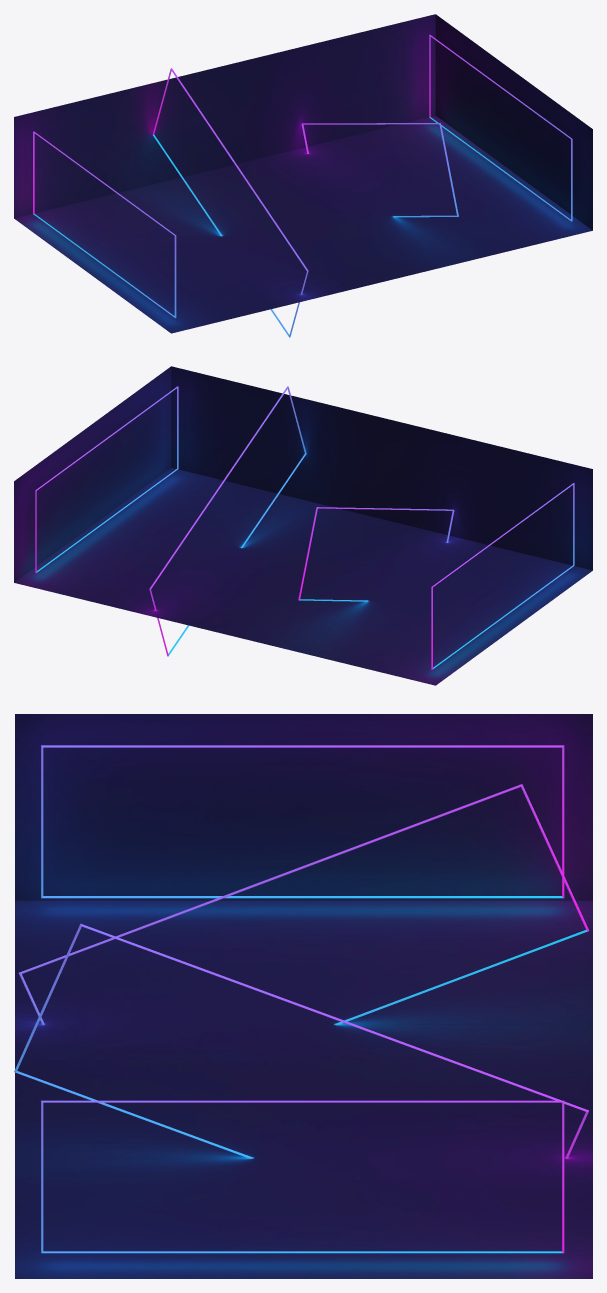
Rendered from neon_lobby_2.glb.
The picture shows the model from 3 angles, top to bottom: view 1: azimuth 30°, elevation 25°; view 2: azimuth 150°, elevation 25°; view 3: azimuth 270°, elevation 25°; orthographic projection. The views are drawn at different scales.
Parts seen in each view (by area): view 1: Cube.001_0, Plane.006_3, Plane.007_4, Plane.004_1, Plane.005_2; view 2: Cube.001_0, Plane.005_2, Plane.004_1, Plane.007_4, Plane.006_3; view 3: Cube.001_0, Plane.004_1, Plane.007_4, Plane.006_3, Plane.005_2.
Boxes of the visible parts, x1,y1,x2,y2 form: Cube.001_0: [14, 14, 592, 333]; Plane.006_3: [152, 68, 308, 337]; Plane.007_4: [33, 131, 176, 318]; Plane.004_1: [429, 34, 572, 221]; Plane.005_2: [301, 123, 458, 217]; Cube.001_0: [14, 366, 592, 685]; Plane.005_2: [149, 386, 306, 656]; Plane.004_1: [35, 386, 178, 572]; Plane.007_4: [431, 483, 574, 669]; Plane.006_3: [298, 507, 454, 601]; Cube.001_0: [15, 714, 592, 1278]; Plane.004_1: [41, 1100, 564, 1253]; Plane.007_4: [41, 745, 564, 898]; Plane.006_3: [18, 784, 589, 1024]; Plane.005_2: [14, 923, 588, 1158].
Size of the model in its own units: 104 by 43.81 by 67.28.
Materials: 2 (2 with a texture image).
